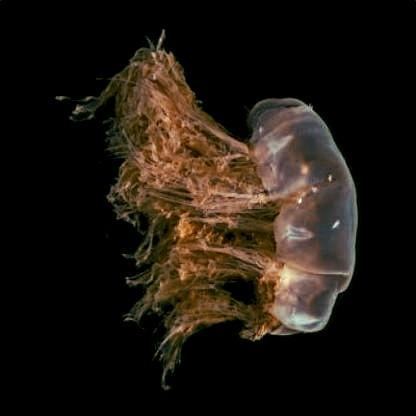GoldThorn: (68, 39, 362, 381)
